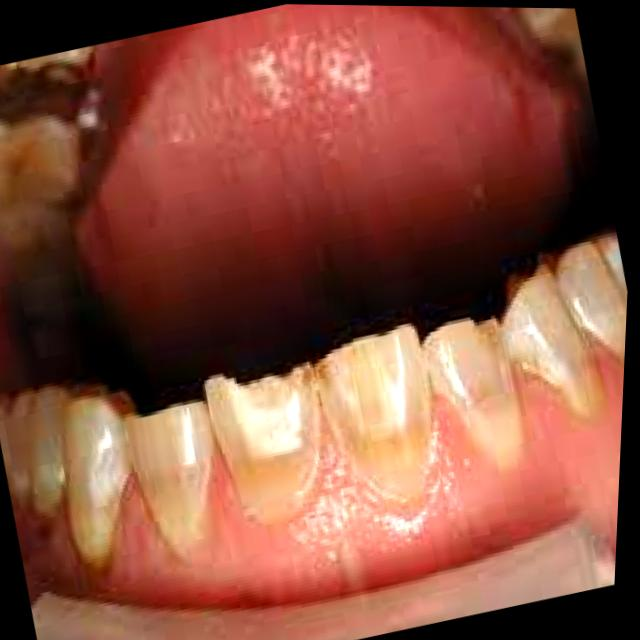tooth-discoloration: (128, 316, 567, 542)
